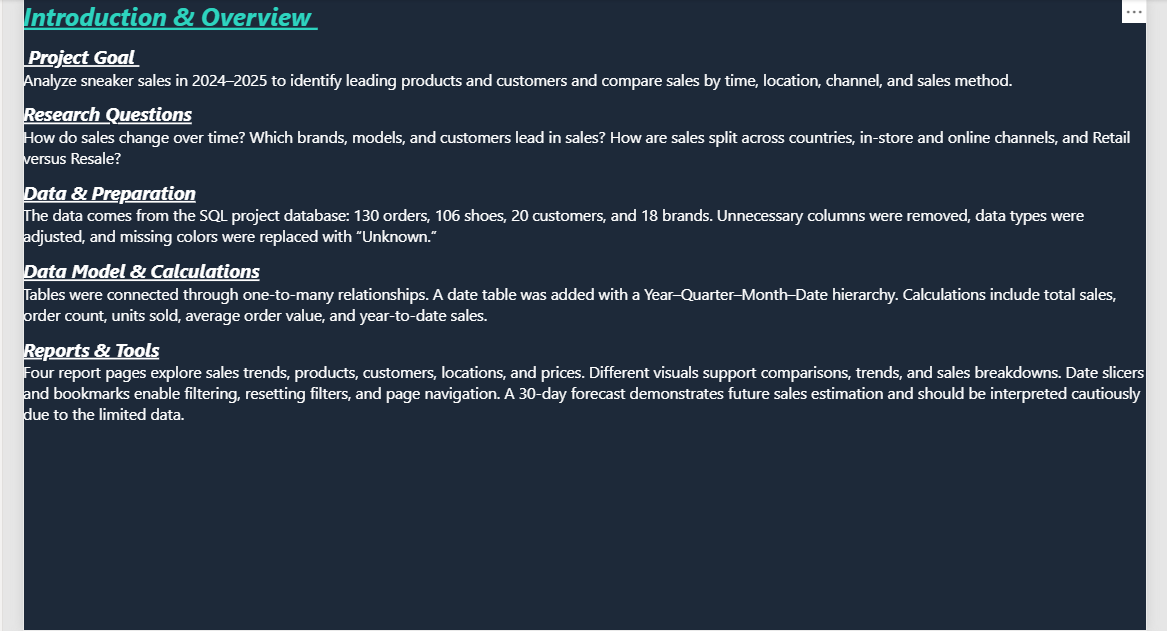

This screenshot's page, from the dashboard's own definition file:
{"tool":"powerbi","page":{"name":"Introduction & Overview","canvas":[1920,1080],"ordinal":0},"visuals":[{"type":"textbox","box":[0,0,1920.8,1080],"z":0}]}

Visuals, with their boxes on the page's 1920x1080 design canvas (x1, y1, x2, y2). These are canvas units, not pixel positions in the 1167x631 screenshot, which may show the page scaled, cropped or inside an application window:
textbox: {"x1": 0, "y1": 0, "x2": 1921, "y2": 1080}
